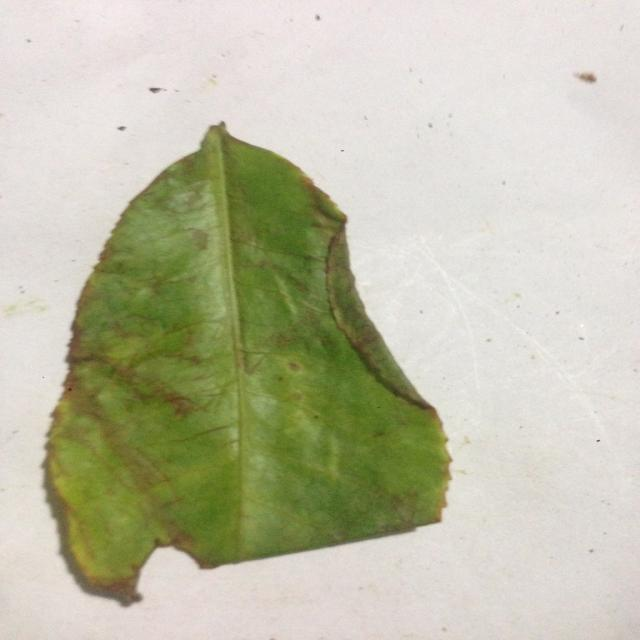Red Leaf Spot: (46, 103, 466, 596)
